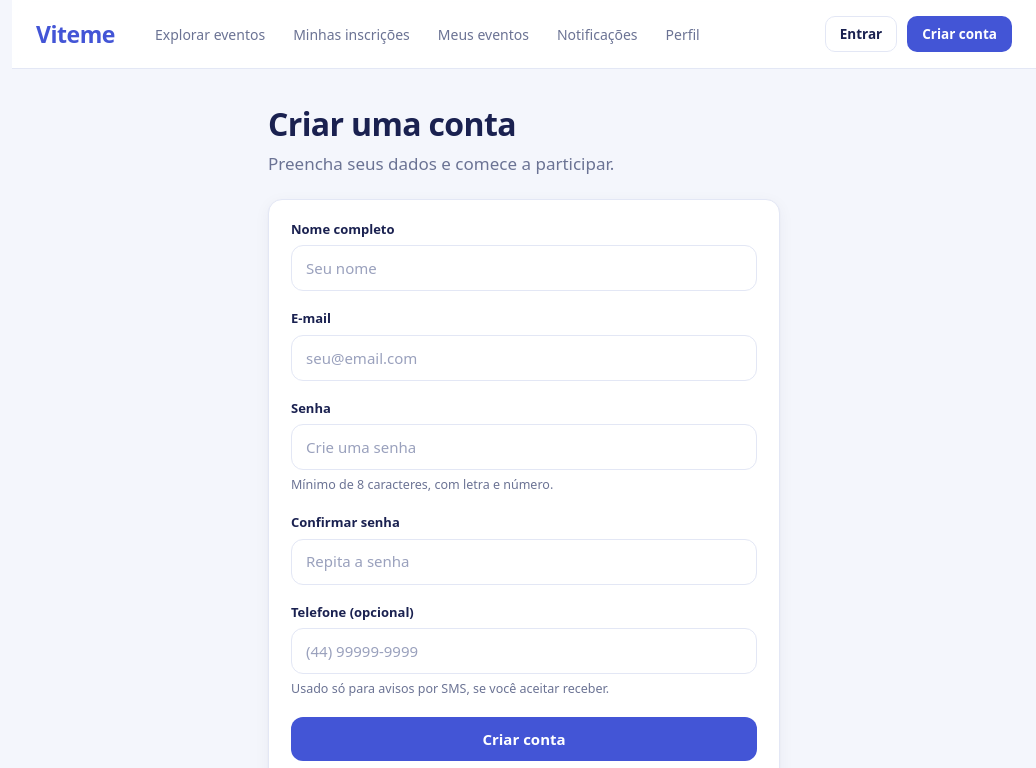
login e cadastro › cadastro válido envia o telefone em E.164 e entra automaticamente
Type "Maria Oliveira" into the field labelled "Nome completo".
click(524, 268); type("Maria Oliveira")  # box 291,245 -> 757,291
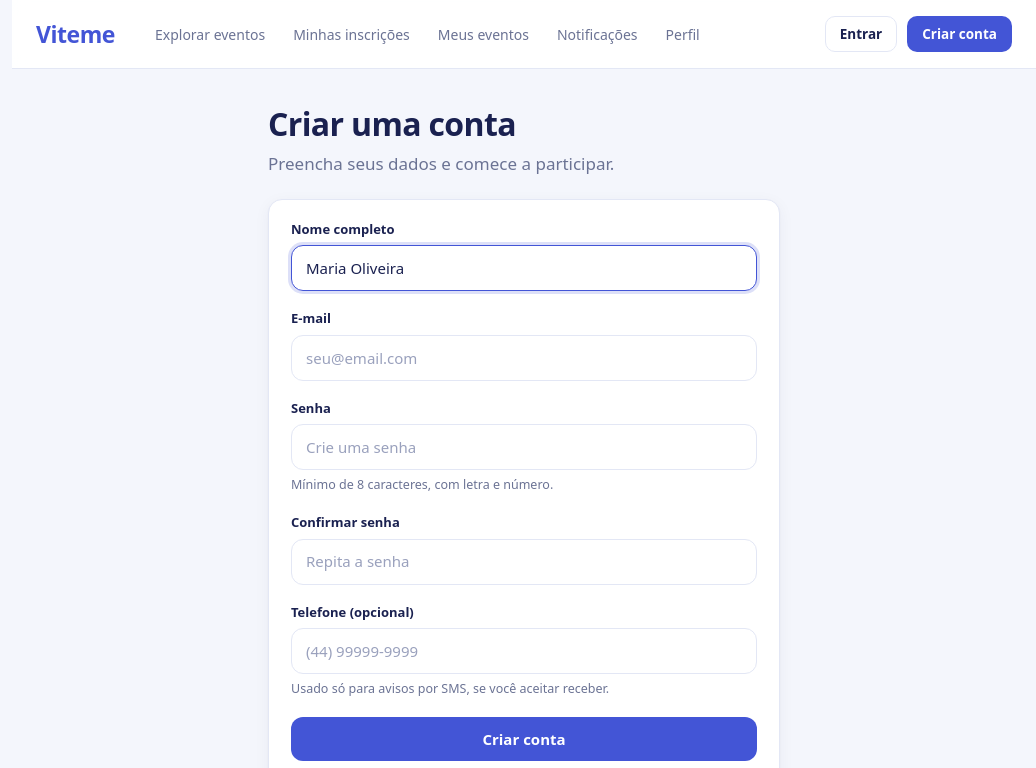
Type "maria@exemplo.com" into the field labelled "E-mail".
click(524, 358); type("maria@exemplo.com")  # box 291,335 -> 757,381
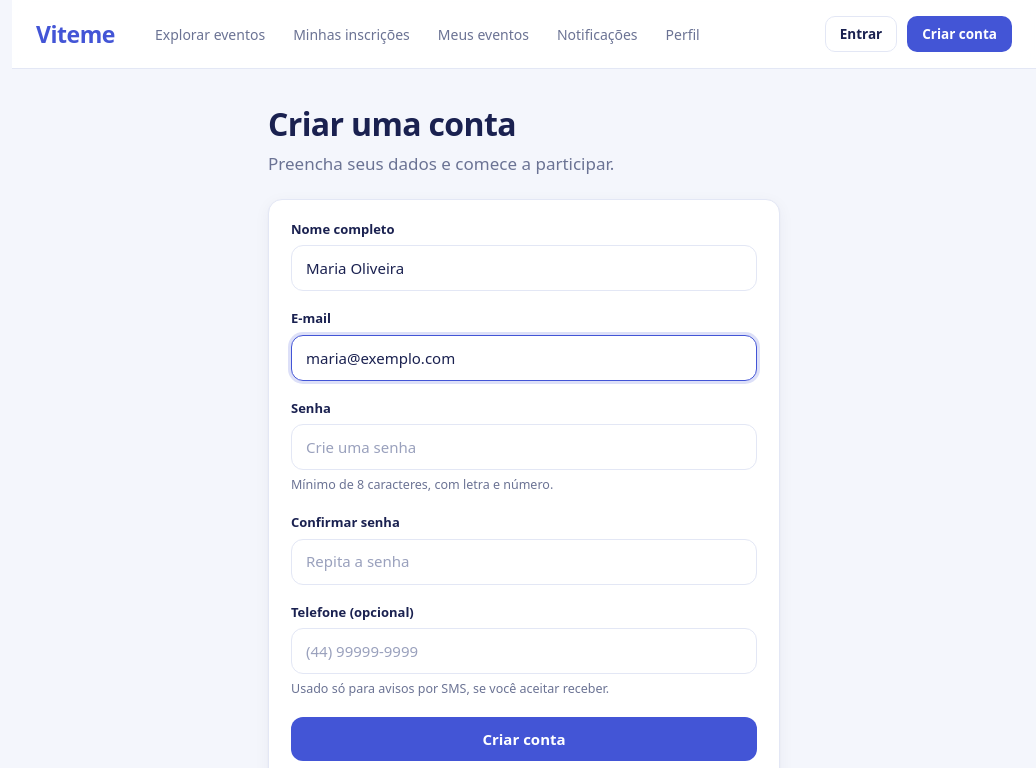
Type "Senha123" into the password field labelled "Senha".
click(524, 447); type("Senha123")  # box 291,424 -> 757,470
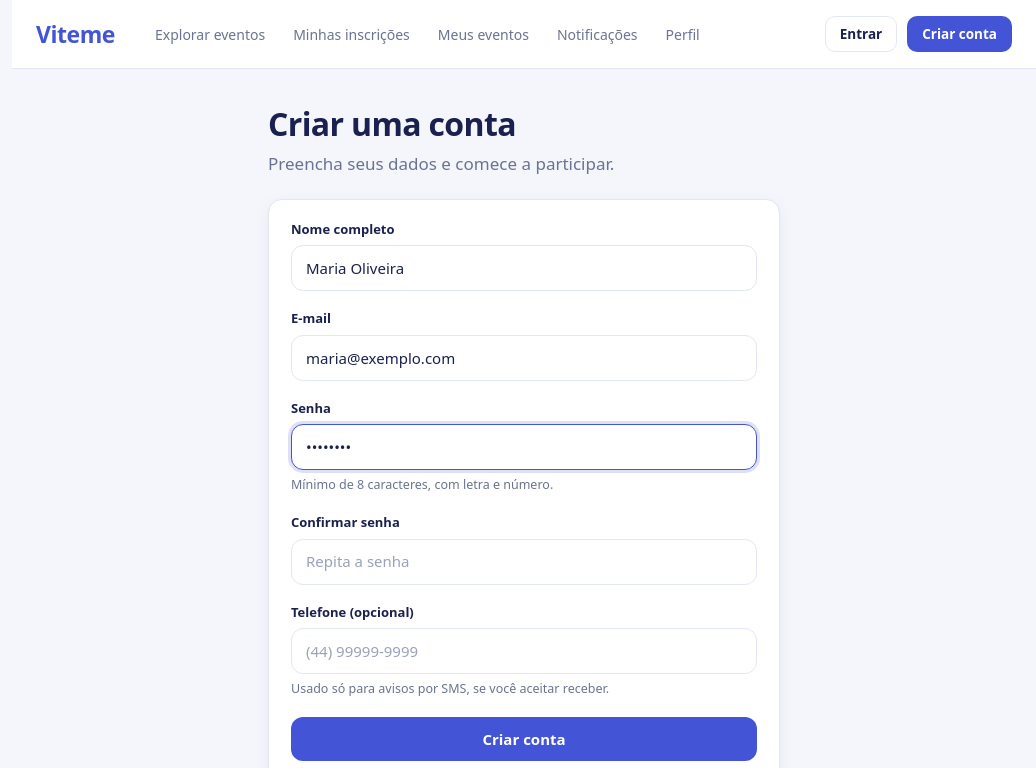
Type "Senha123" into the password field labelled "Confirmar senha".
click(524, 562); type("Senha123")  # box 291,539 -> 757,585
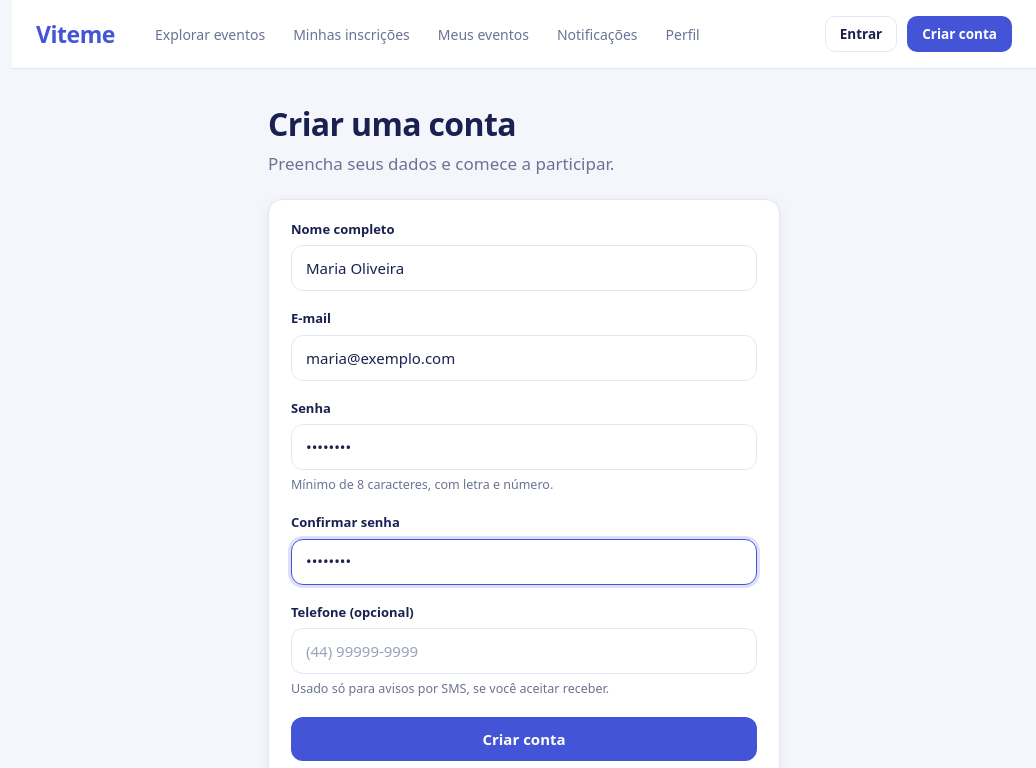
Type "44999990000" into the field labelled "Telefone (opcional)".
click(524, 651); type("44999990000")  # box 291,628 -> 757,674
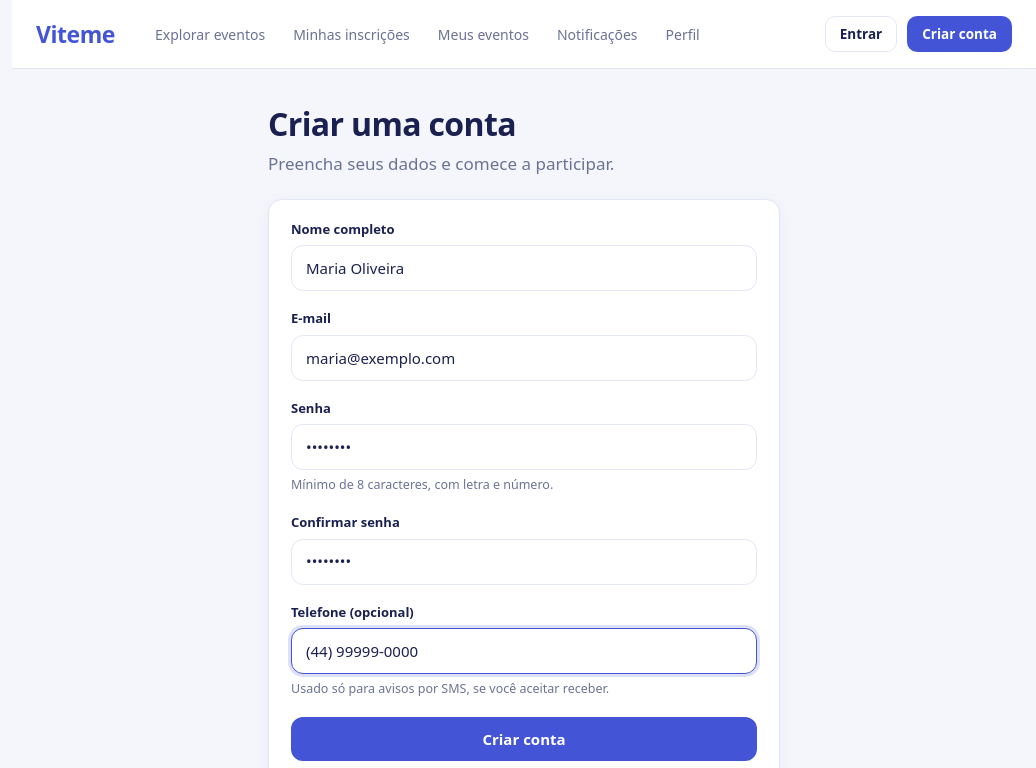
expect the field labelled "Telefone (opcional)" holds "(44) 99999-0000": met, box 291,628 -> 757,674
Click the button "Criar conta".
click(524, 739)  # box 291,717 -> 757,761
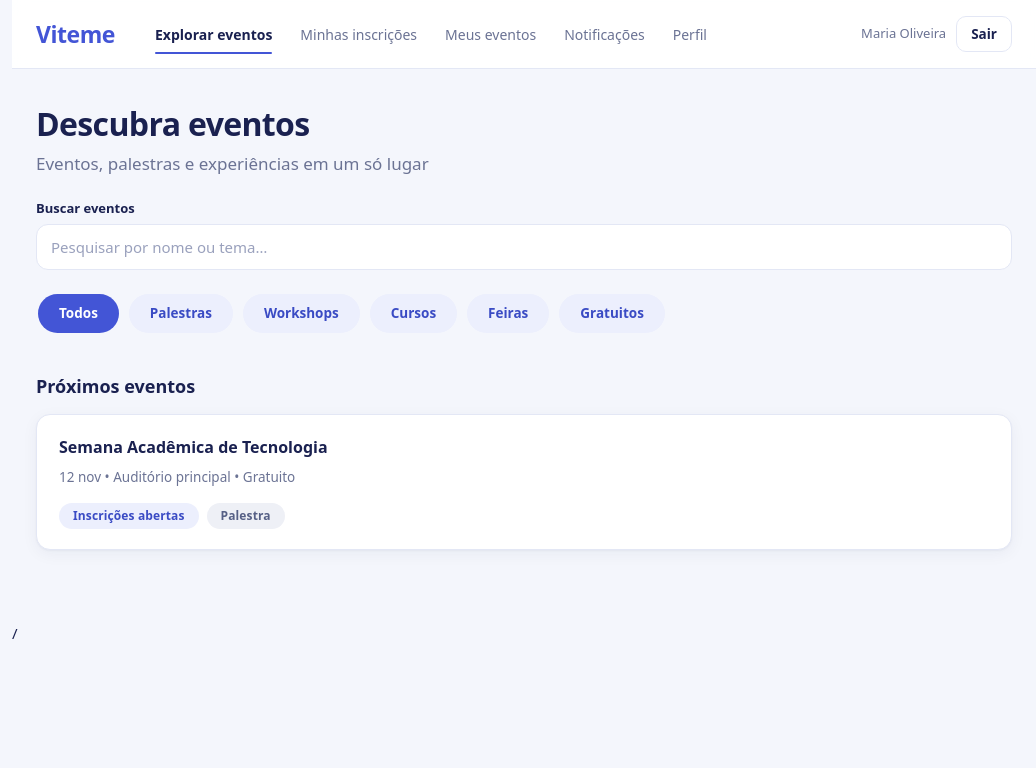
expect the heading "Descubra eventos" is shown: met, box 36,102 -> 310,145
